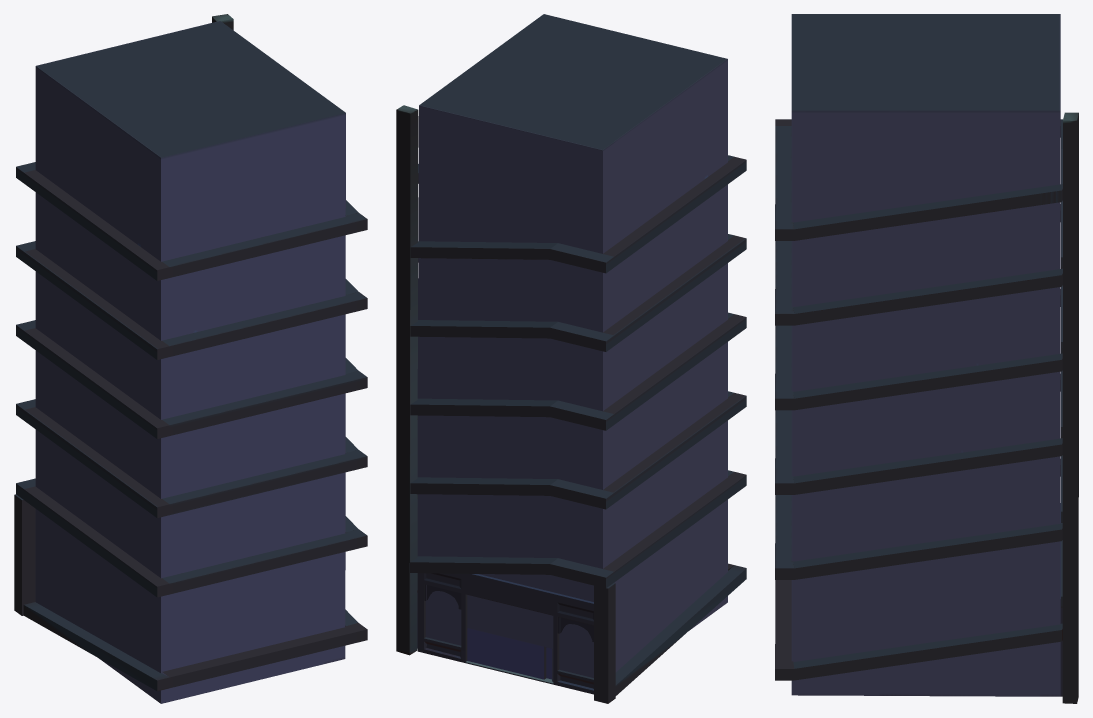
Rendered from Big Building 2.fbx.
3 renders of one model, left to right at view 1: azimuth 30°, elevation 25°; view 2: azimuth 150°, elevation 25°; view 3: azimuth 270°, elevation 25°, orthographic. The views are drawn at different scales.
Visible parts, largest first — view 1: FinalBuilding_Big_2; view 2: FinalBuilding_Big_2; view 3: FinalBuilding_Big_2.
Part boxes in pixels (x1,y1,x2,y2): FinalBuilding_Big_2: [14, 14, 367, 703]; FinalBuilding_Big_2: [396, 14, 746, 703]; FinalBuilding_Big_2: [775, 14, 1078, 703].
Size of the model in its own units: 26.77 by 65.64 by 30.84.
